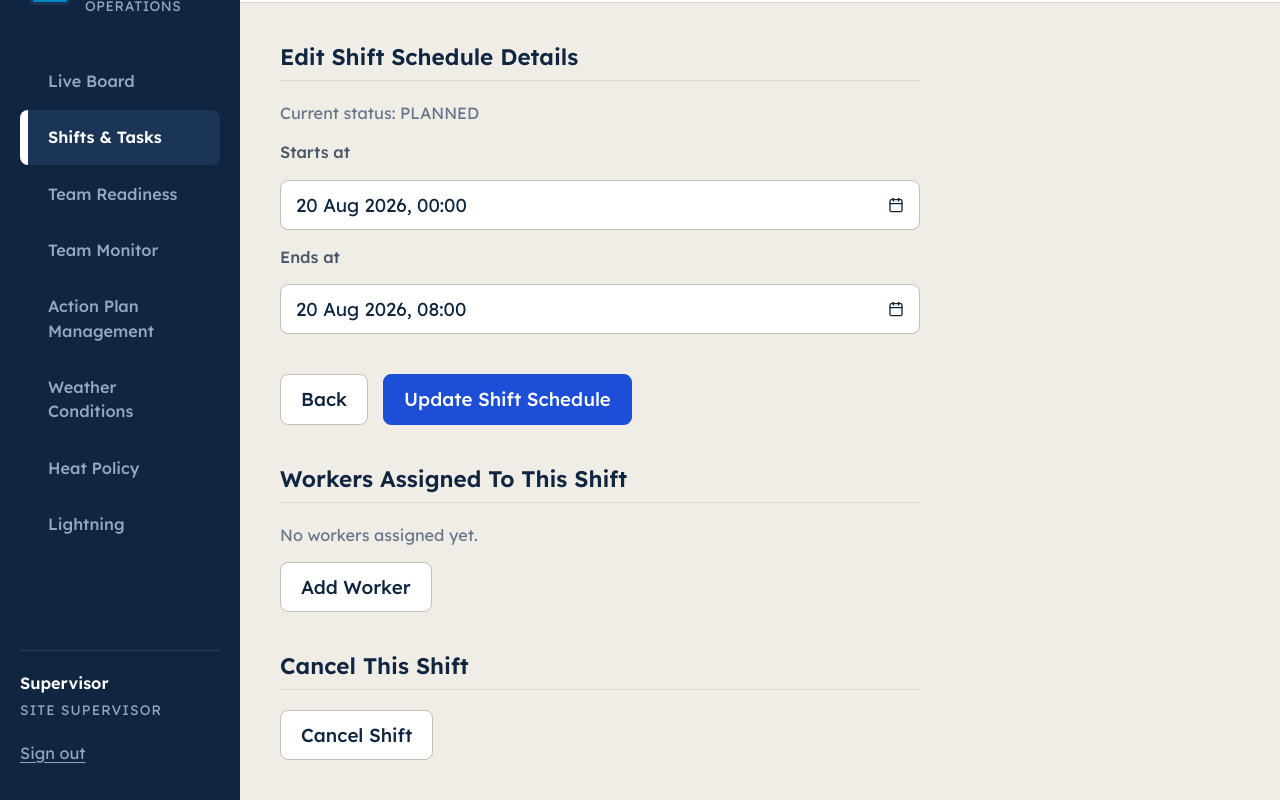
Test: EditShiftForm › keeps the user signed in and explains when the server refuses the cancel (400)
(page scrolled)
Click the button "Cancel Shift" at (357, 735), box [280,710,433,760]
(page scrolled)
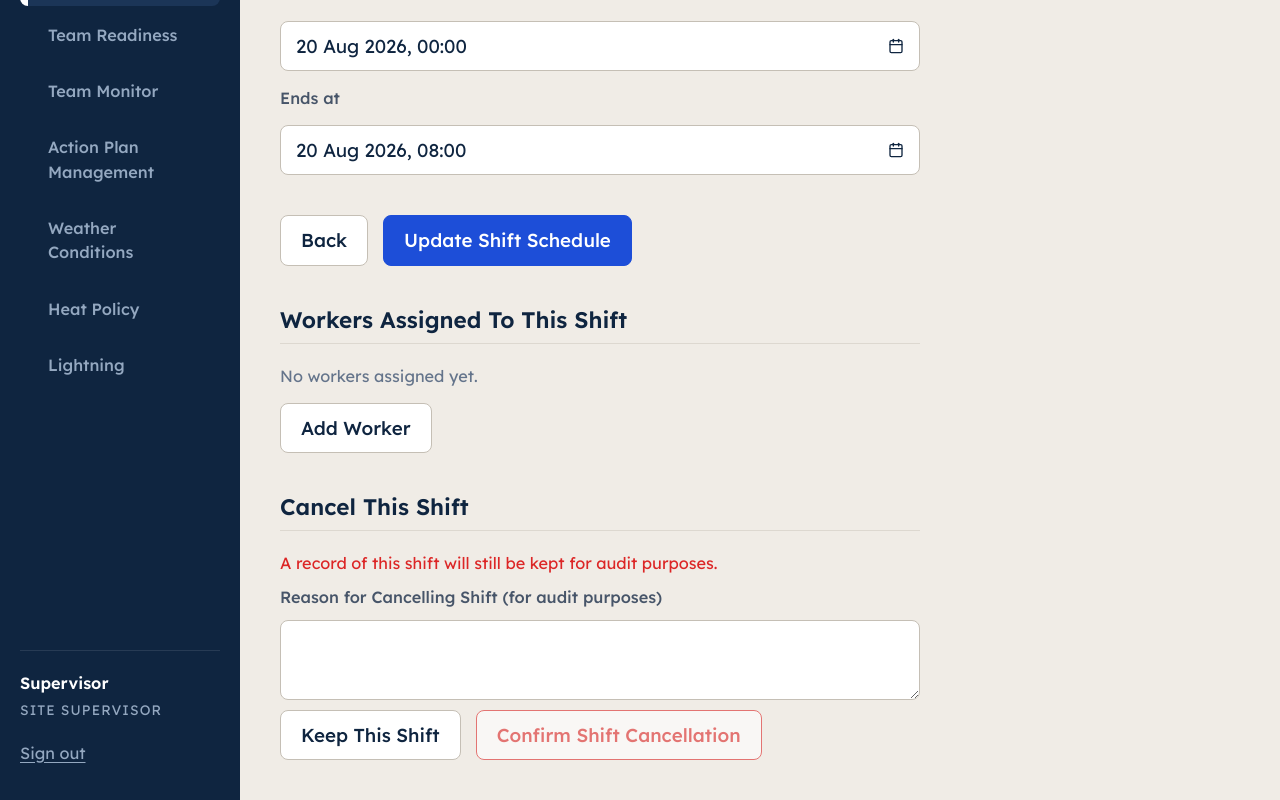
Type "Bad weather" into the text box labelled "Reason for Cancelling Shift (for audit purposes)" at (600, 660), box [280,620,920,700]
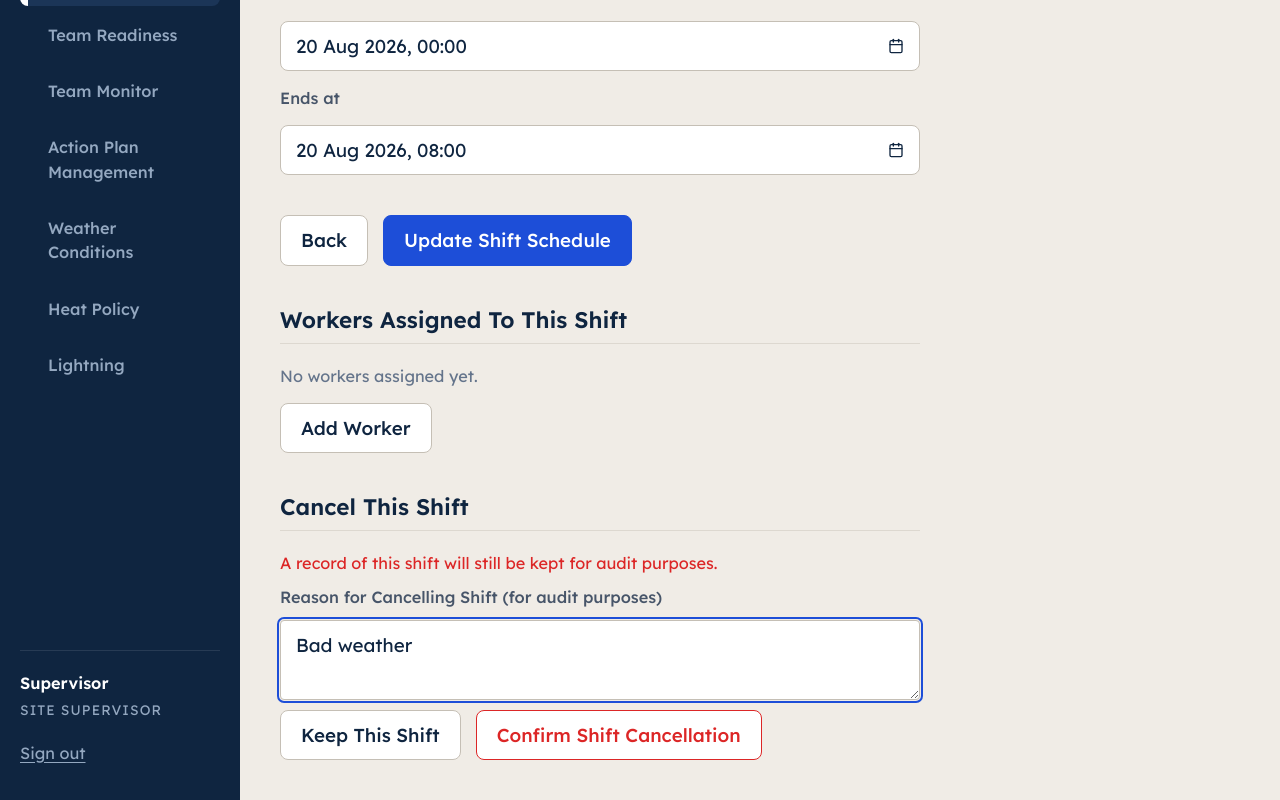
Click the button "Confirm Shift Cancellation" at (619, 735), box [476,710,762,760]
(page scrolled)
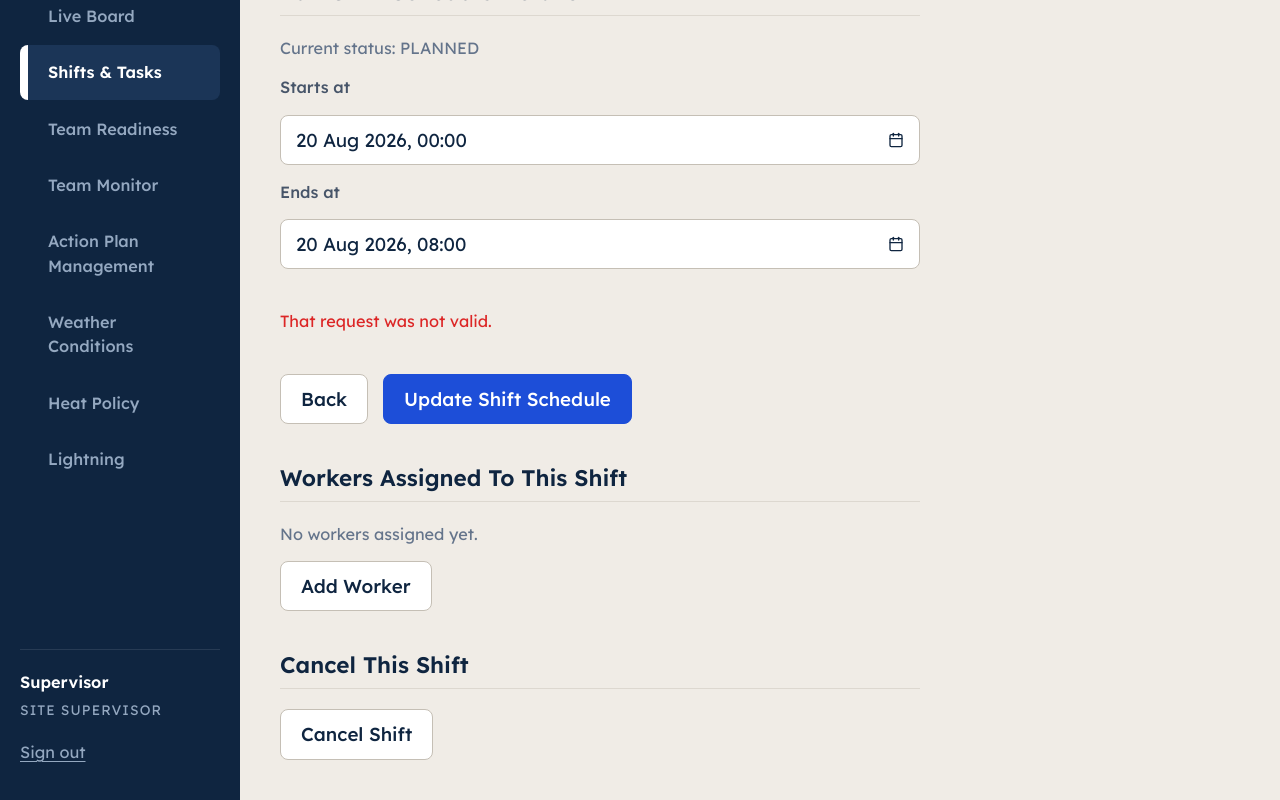
Expected: the text "That request was not valid." is shown, [280,311,492,331]
